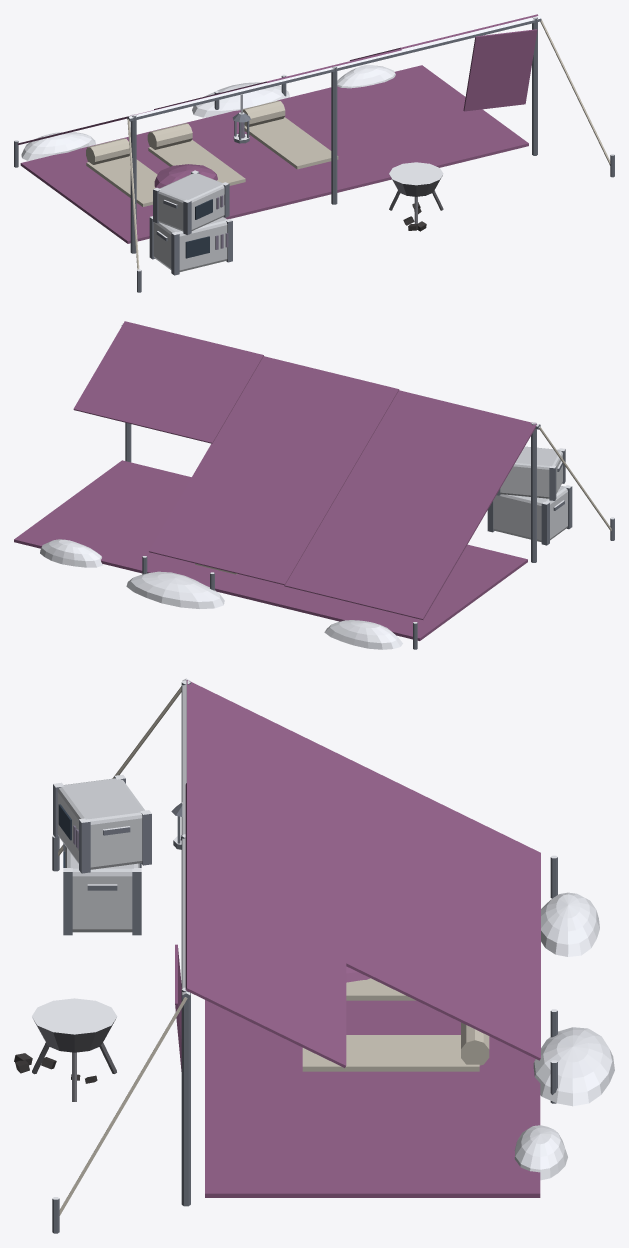
The model's file is PR_Acampamento_Ponte.fbx.
3 renders of one model, top to bottom at view 1: azimuth 30°, elevation 25°; view 2: azimuth 150°, elevation 25°; view 3: azimuth 270°, elevation 25°, orthographic. The views are drawn at different scales.
Parts seen in each view (by area): view 1: PR_Acampamento_Ponte; view 2: PR_Acampamento_Ponte; view 3: PR_Acampamento_Ponte.
Part boxes in pixels (box(x1,y1,x2,y2)): PR_Acampamento_Ponte: box(14, 14, 614, 292); PR_Acampamento_Ponte: box(14, 321, 614, 649); PR_Acampamento_Ponte: box(14, 678, 614, 1233).
Bounding box in the file's own units: 9.27 × 2.65 × 6.45.
